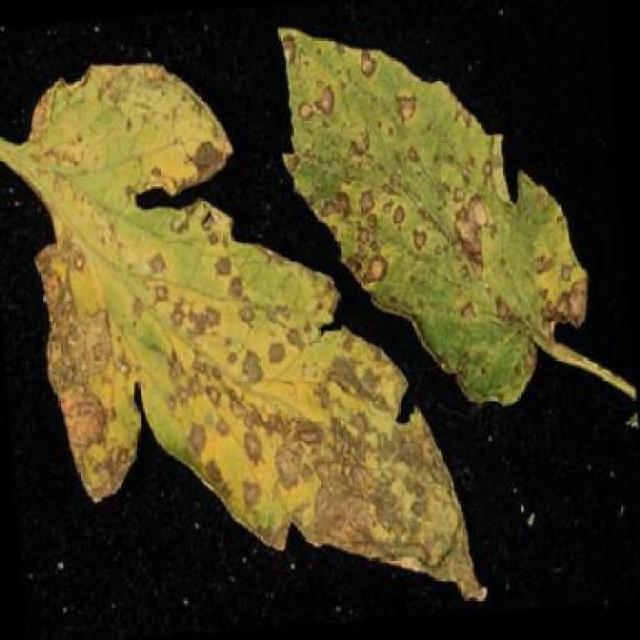Septoria leaf spot: (17, 40, 494, 637), (267, 1, 605, 416)
